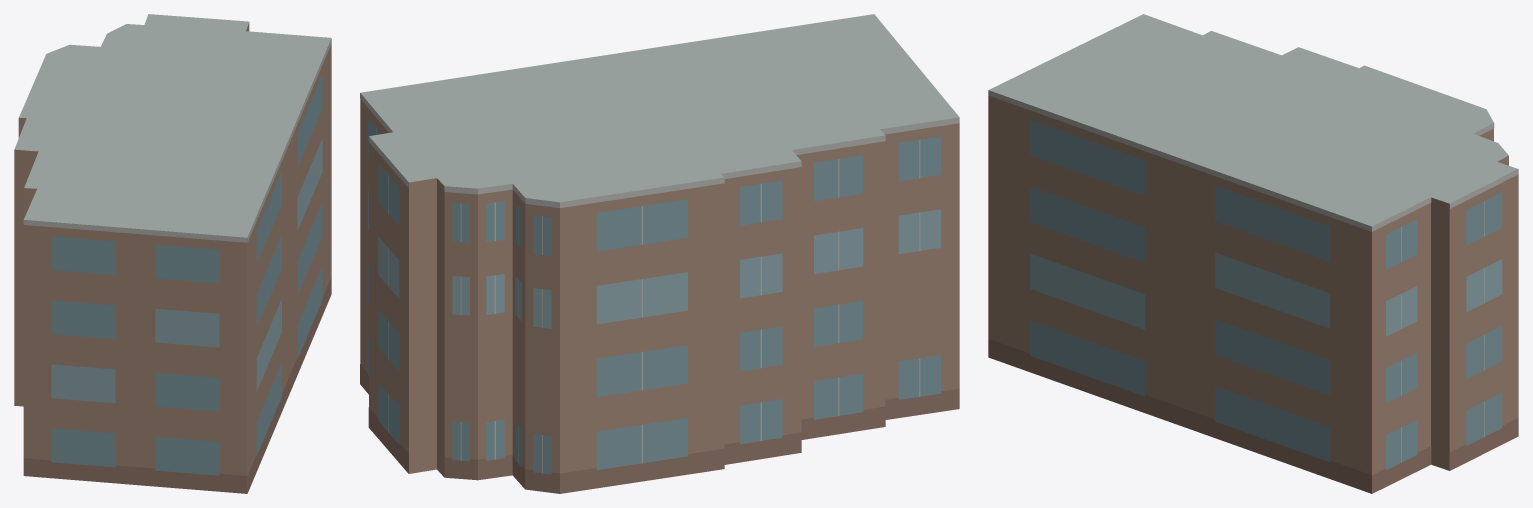
File: survey-upis-32459417.glb
The picture shows the model from 3 angles, left to right: view 1: azimuth 30°, elevation 25°; view 2: azimuth 150°, elevation 25°; view 3: azimuth 270°, elevation 25°; orthographic projection. The views are drawn at different scales.
Parts seen in each view (by area): view 1: survey-upis-32459417.tmp; view 2: survey-upis-32459417.tmp; view 3: survey-upis-32459417.tmp.
Boxes of the visible parts, x1,y1,x2,y2 form: survey-upis-32459417.tmp: (14, 14, 331, 493); survey-upis-32459417.tmp: (360, 14, 959, 493); survey-upis-32459417.tmp: (988, 14, 1518, 493).
Bounding box in the file's own units: 20.81 × 12.2 × 21.93.
